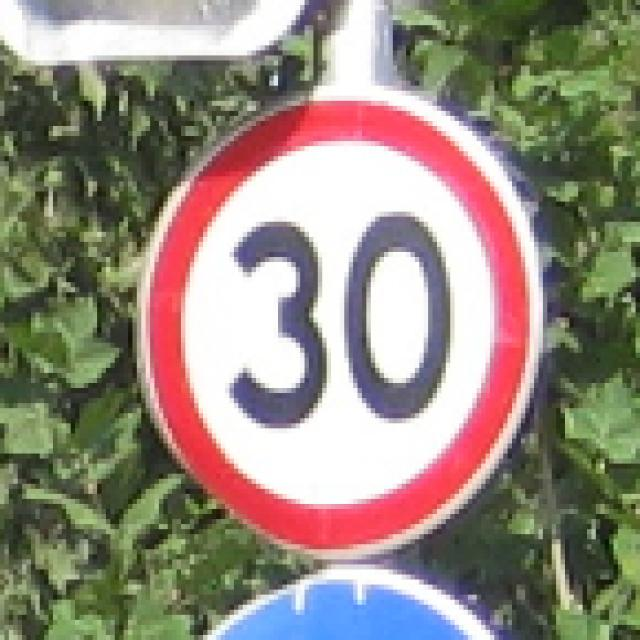Speed: (143, 96, 547, 567)
